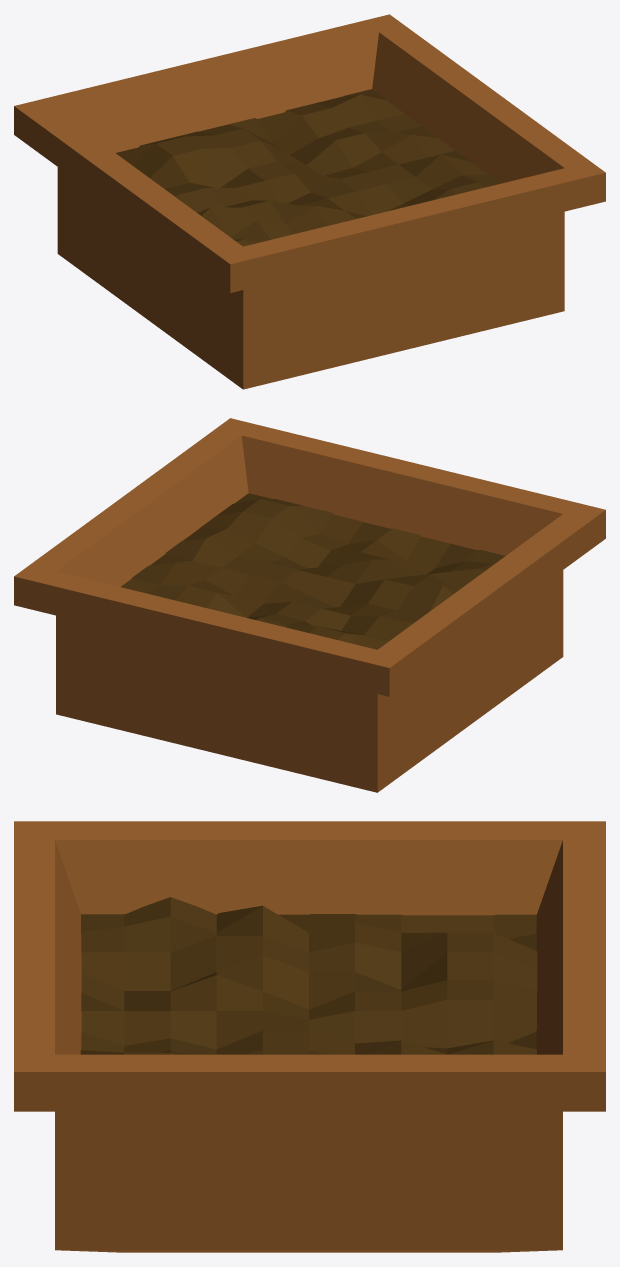
File: windowsil_pot.fbx
3 views of the same model, one above another, from view 1: azimuth 30°, elevation 25°; view 2: azimuth 150°, elevation 25°; view 3: azimuth 270°, elevation 25° (orthographic). The views are drawn at different scales.
Visible parts, largest first — view 1: pot with dirt; view 2: pot with dirt; view 3: pot with dirt.
Boxes of the visible parts, x1,y1,x2,y2 form: pot with dirt: (14,14,605,389); pot with dirt: (14,418,605,792); pot with dirt: (14,821,605,1252).
Bounding box in the file's own units: 280 × 118 × 280.
